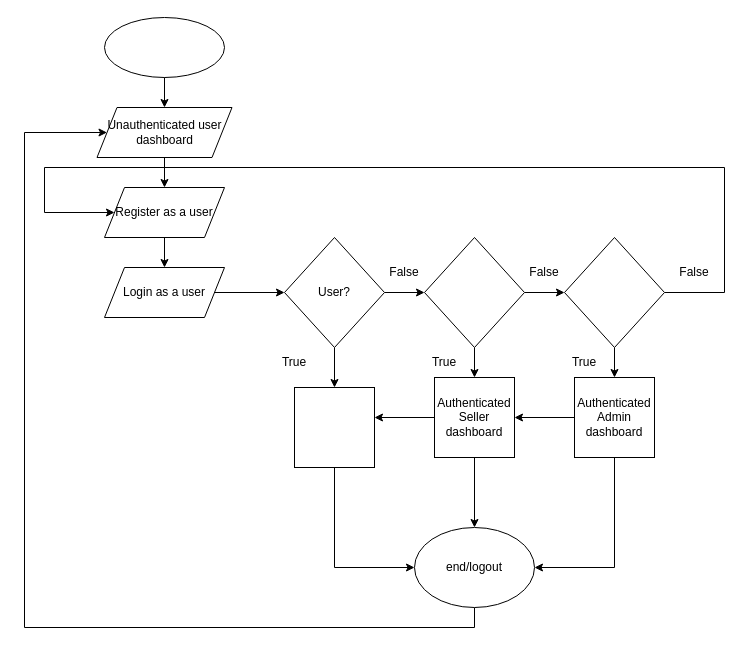
Image size: 750x653. Some labels were removed from this diagram. The centre of each missing label's shape, as x and y in pixels:
Admin?: [614,292]
Authenticated user dashboard: [334,427]
Seller?: [474,292]
Start: [164,47]
